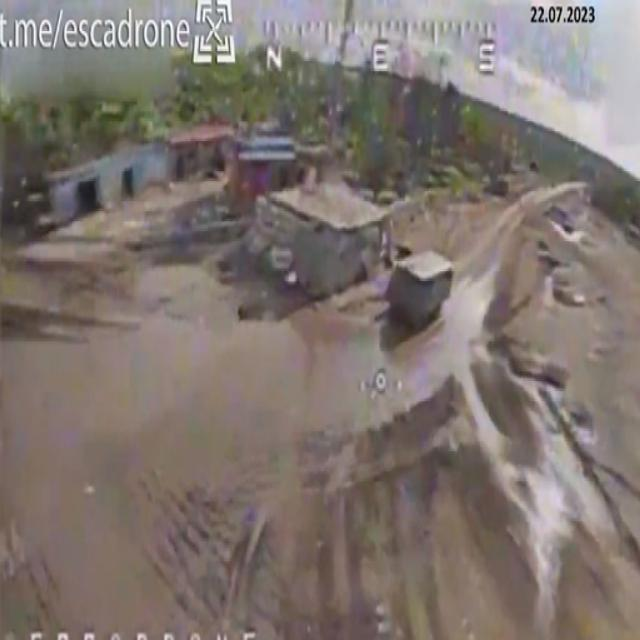CAR: (384, 238, 456, 326)
